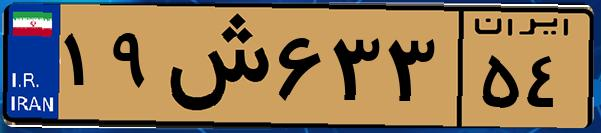1: (57, 26, 110, 100)
3: (385, 28, 445, 110), (330, 28, 385, 110)
4: (525, 38, 570, 115)
5: (475, 38, 525, 113)
6: (270, 28, 330, 110)
9: (110, 28, 158, 98)
ش: (158, 12, 270, 120)
